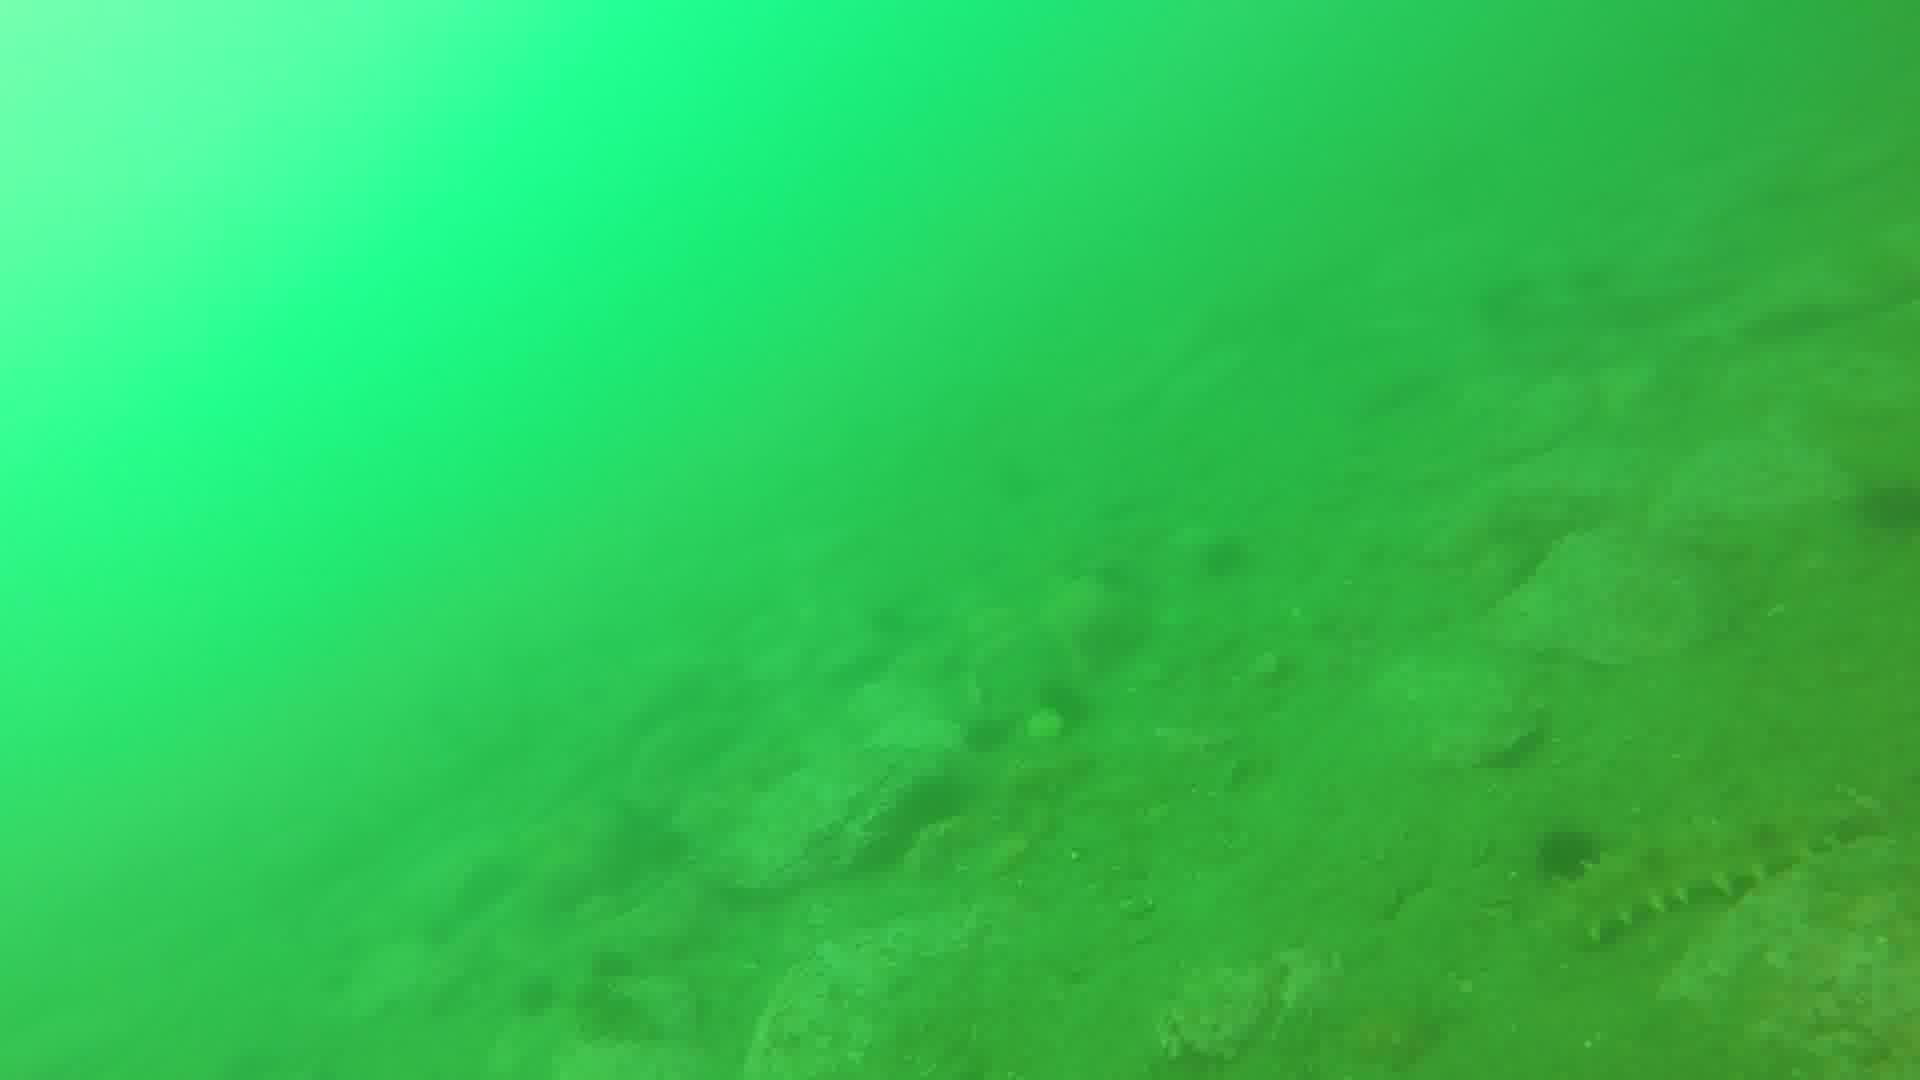echinus: (1528, 822, 1614, 895)
holothurian: (1553, 794, 1851, 948)
